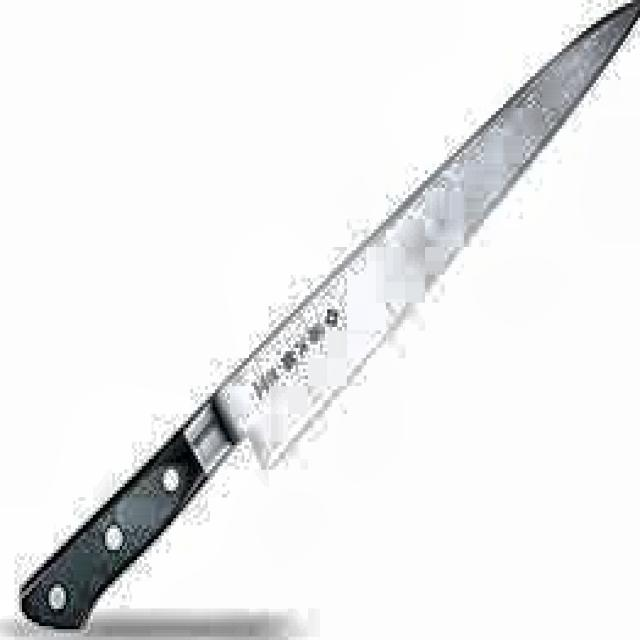knife: (19, 0, 640, 633)
